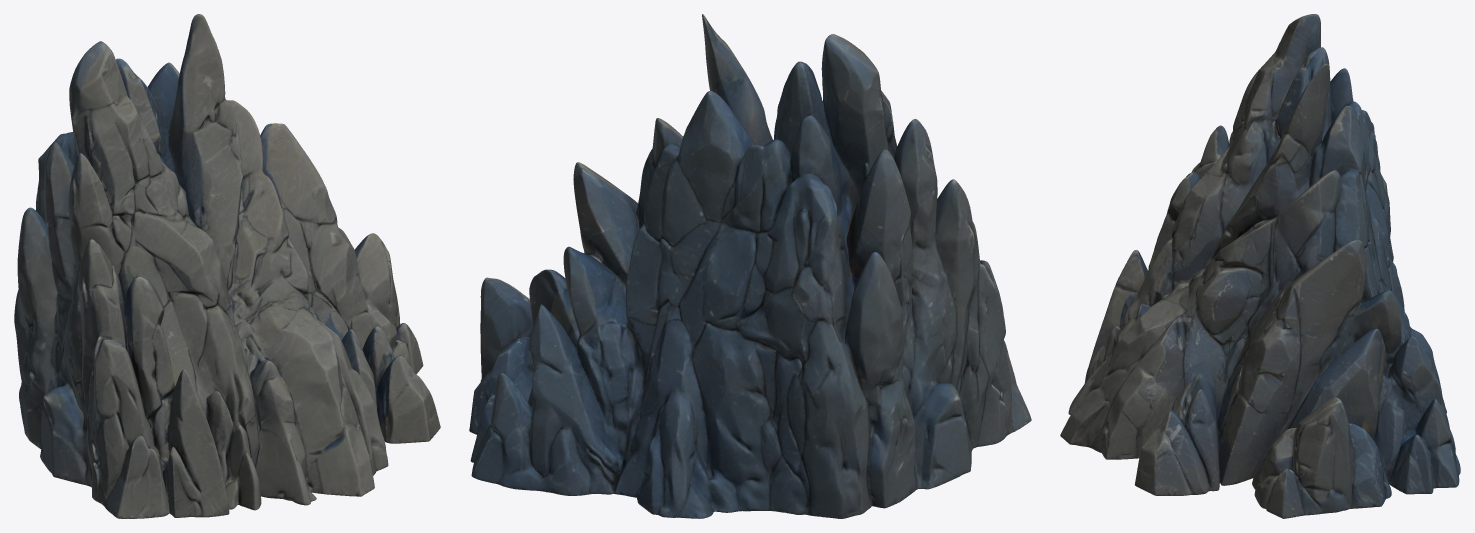
The model's file is stone_mountain1.glb.
3 views of the same model, side by side, from view 1: azimuth 30°, elevation 25°; view 2: azimuth 150°, elevation 25°; view 3: azimuth 270°, elevation 25° (orthographic). The views are drawn at different scales.
Size of the model in its own units: 1 by 0.9548 by 0.9413.
Materials: 1 (1 with a texture image).
